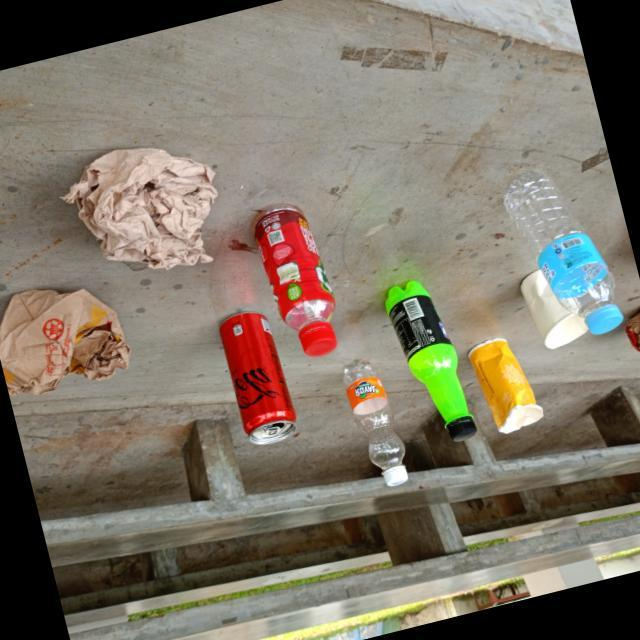recyclable waste: (39, 119, 242, 303), (490, 150, 634, 356), (372, 266, 492, 459), (237, 189, 355, 374), (0, 261, 148, 407), (205, 300, 308, 456), (332, 346, 422, 502), (459, 324, 552, 448), (508, 255, 598, 362), (614, 299, 640, 370)
